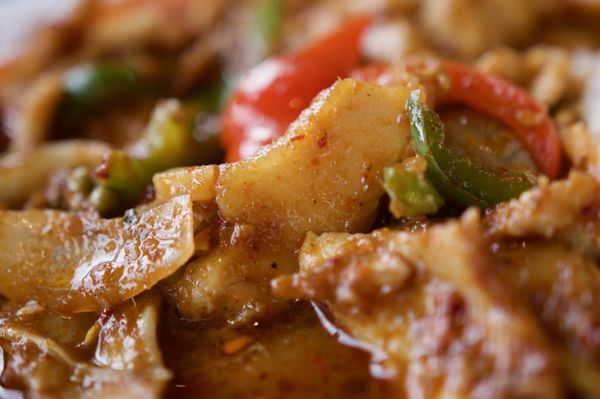pizza: (221, 12, 377, 164)
